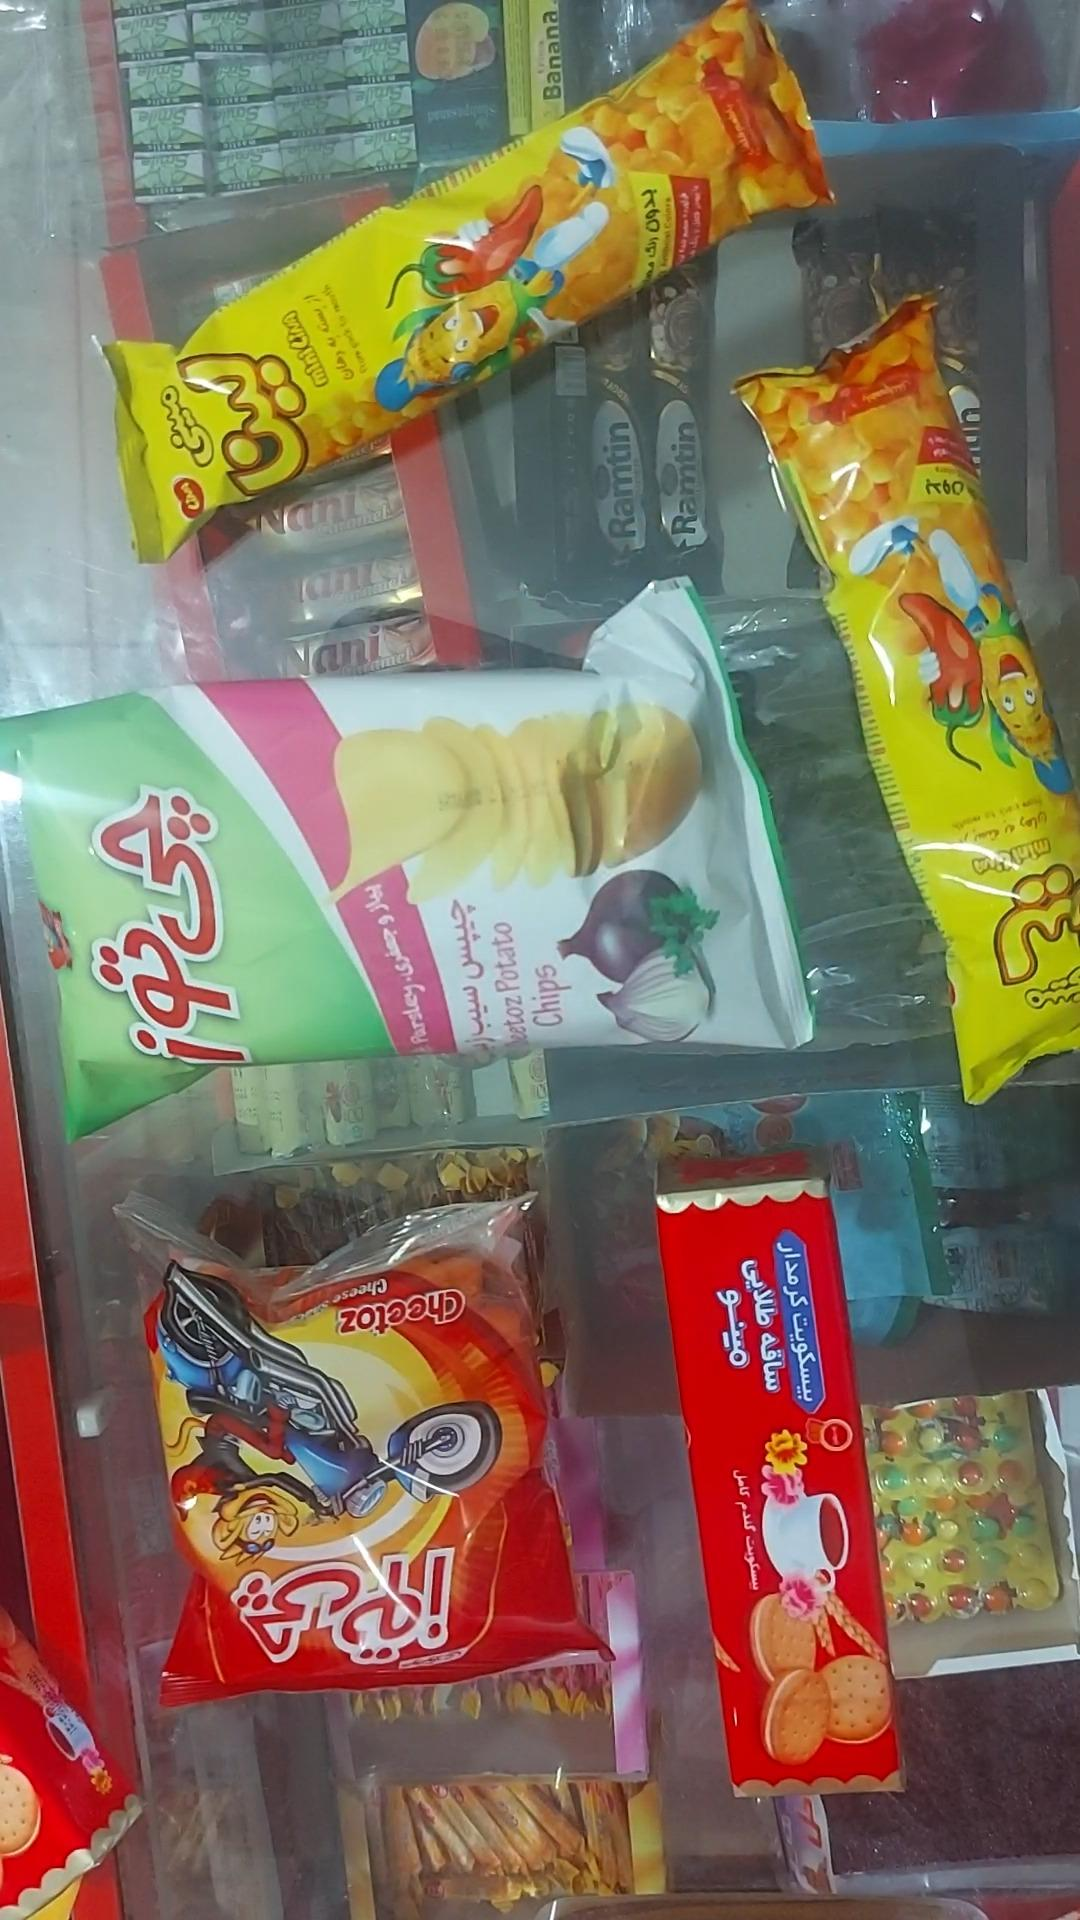Cheetoz onion and parsley chips: (0, 582, 808, 1135)
Cheetoz snack 30g: (120, 1196, 595, 1704)
Mini Lina: (105, 0, 829, 560), (736, 295, 1079, 1102)
Minoo cream biscuit: (657, 1156, 901, 1796), (0, 1607, 140, 1919)
